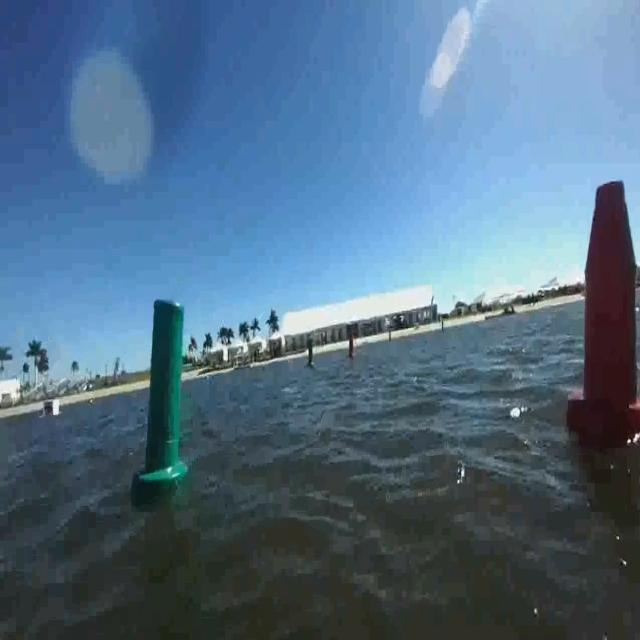green-column-buoy: (138, 298, 187, 491), (306, 336, 318, 369)
red-column-buoy: (564, 180, 638, 446)
